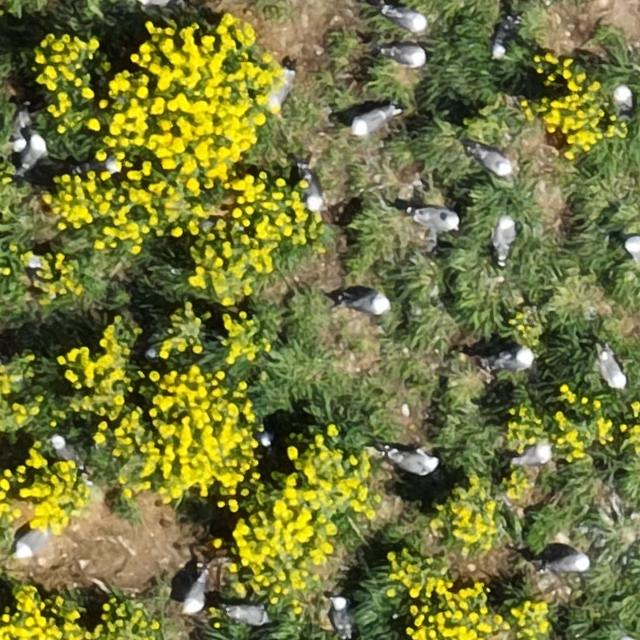umineko: (391, 450, 436, 473), (352, 110, 390, 134), (476, 148, 510, 174), (414, 209, 456, 230), (16, 530, 48, 557), (350, 294, 390, 315), (550, 552, 592, 572), (184, 576, 207, 612), (603, 352, 626, 388), (494, 347, 533, 368), (389, 45, 426, 66), (22, 132, 44, 166), (494, 20, 516, 54), (391, 10, 426, 31), (496, 216, 515, 254), (227, 606, 266, 624), (268, 74, 290, 105), (51, 436, 76, 463), (303, 176, 322, 211), (516, 444, 550, 463), (332, 598, 350, 633), (614, 86, 632, 112), (626, 238, 638, 265)
